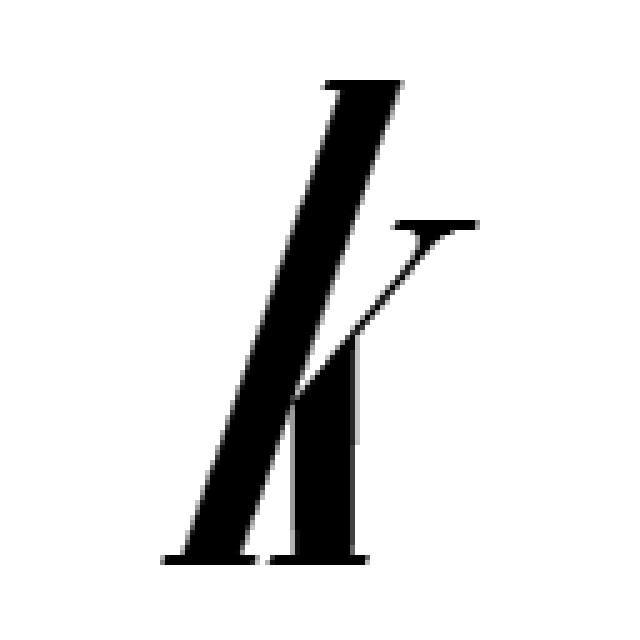K: (155, 70, 480, 570)
